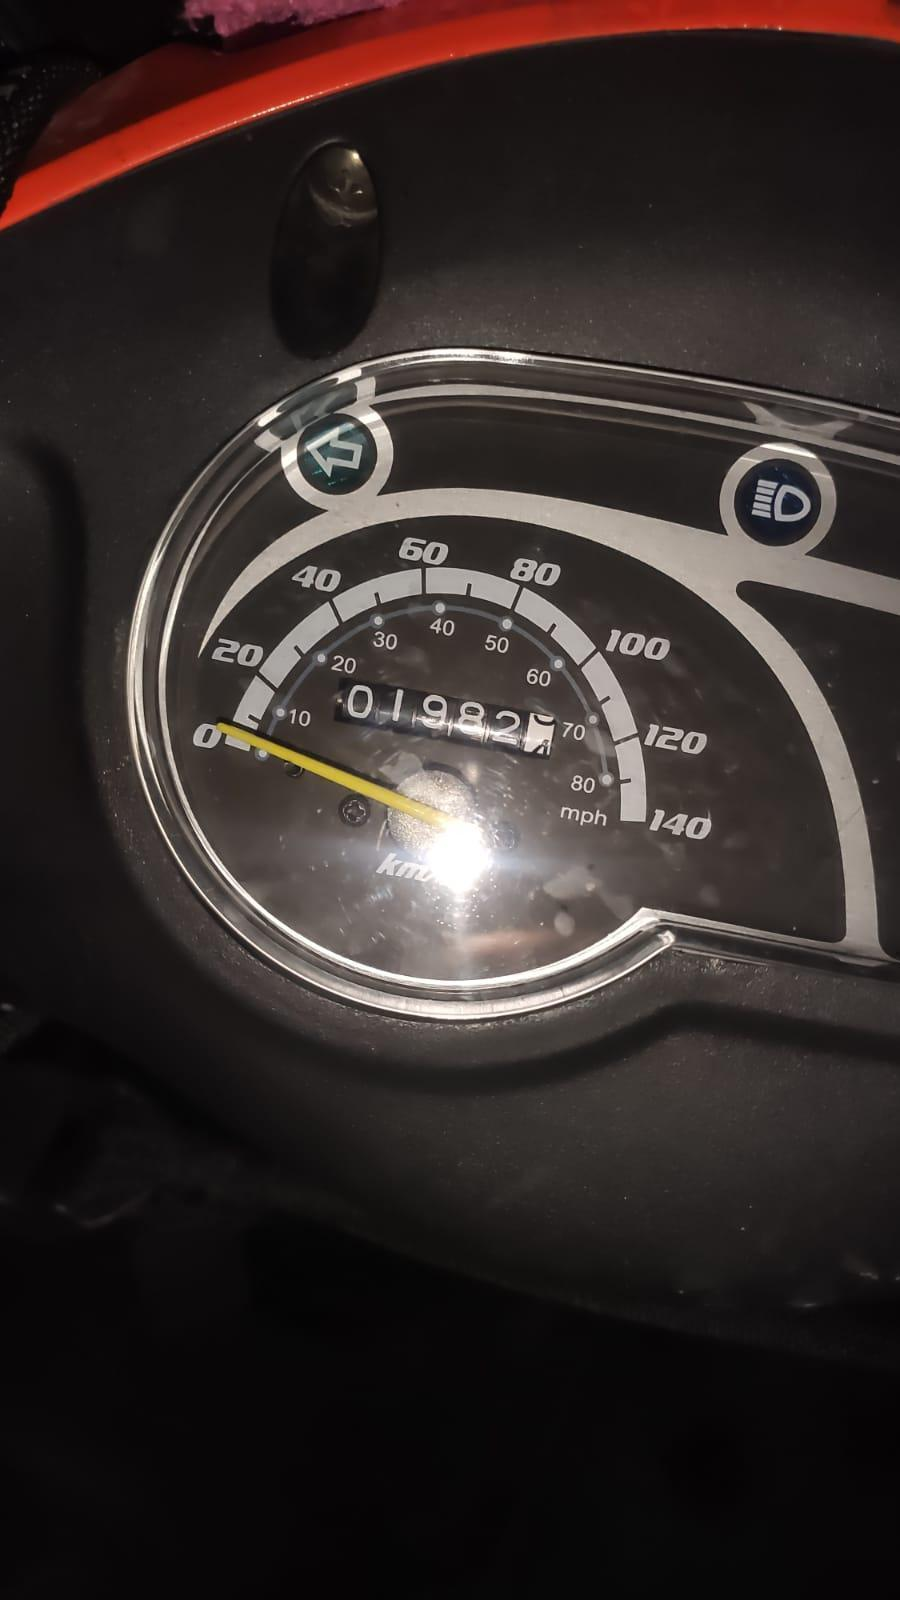0: (344, 684, 376, 724)
1: (387, 684, 405, 733)
2: (491, 707, 520, 746)
4: (524, 734, 554, 764)
8: (454, 699, 485, 736)
9: (418, 688, 447, 732)
odometer: (323, 681, 560, 773)
